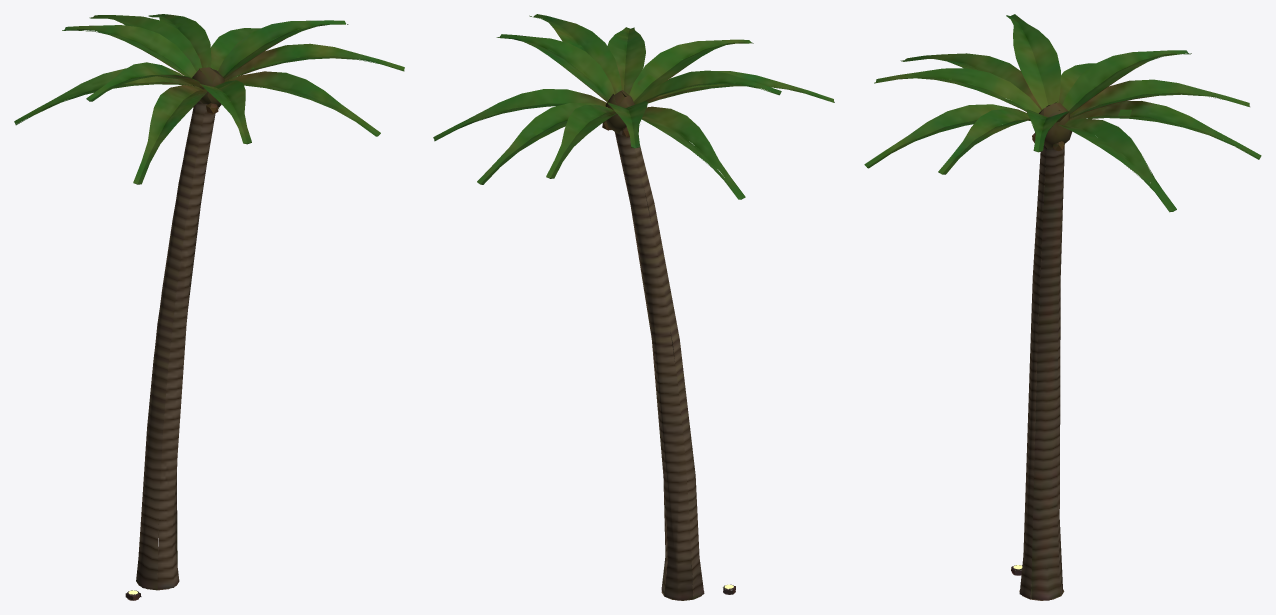
The model's file is palm_tree_lod1.glb.
3 views of the same model, side by side, from view 1: azimuth 30°, elevation 25°; view 2: azimuth 150°, elevation 25°; view 3: azimuth 270°, elevation 25° (orthographic). The views are drawn at different scales.
Visible parts, largest first — view 1: palm_tree; view 2: palm_tree; view 3: palm_tree.
Boxes of the visible parts, x1,y1,x2,y2 form: palm_tree: [14, 14, 404, 600]; palm_tree: [433, 14, 834, 600]; palm_tree: [864, 14, 1261, 600].
Size of what is drawn, in the model's own units: 4.69 by 7.68 by 5.1.
1 material, 1 textured.
